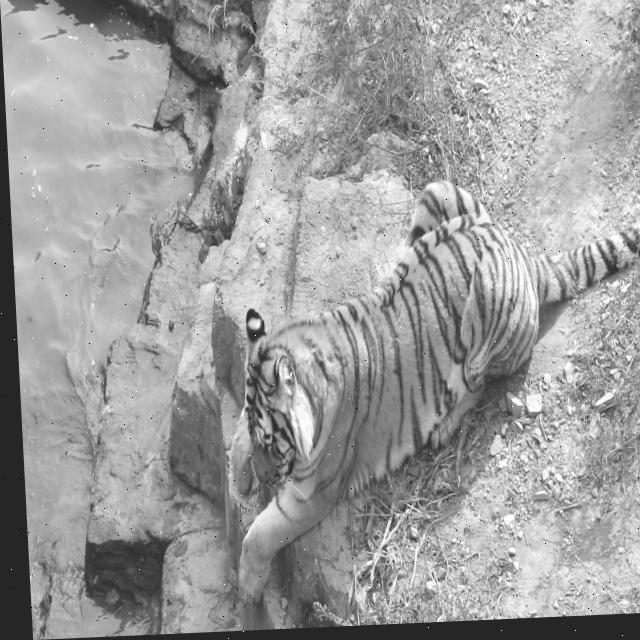Tiger: (214, 169, 640, 607)
